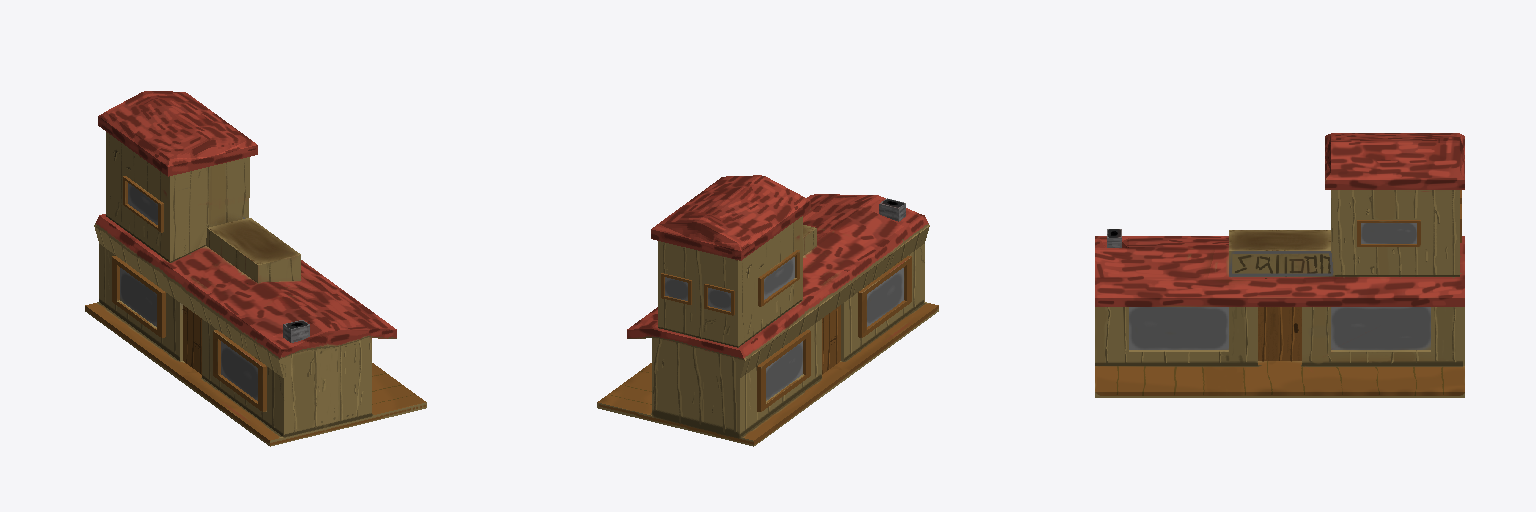
The picture shows the model from 3 angles: view 1: azimuth 30°, elevation 25°; view 2: azimuth 150°, elevation 25°; view 3: azimuth 270°, elevation 25°; orthographic projection.
Parts seen in each view (by area): view 1: Cube.001; view 2: Cube.001; view 3: Cube.001.
Part boxes in pixels (left/top/right/bottom): Cube.001: left=85, top=91, right=426, bottom=446; Cube.001: left=597, top=175, right=938, bottom=446; Cube.001: left=1095, top=133, right=1464, bottom=397.
Size of the model in its own units: 5.98 by 7.57 by 12.19.
1 materials, 1 textured.